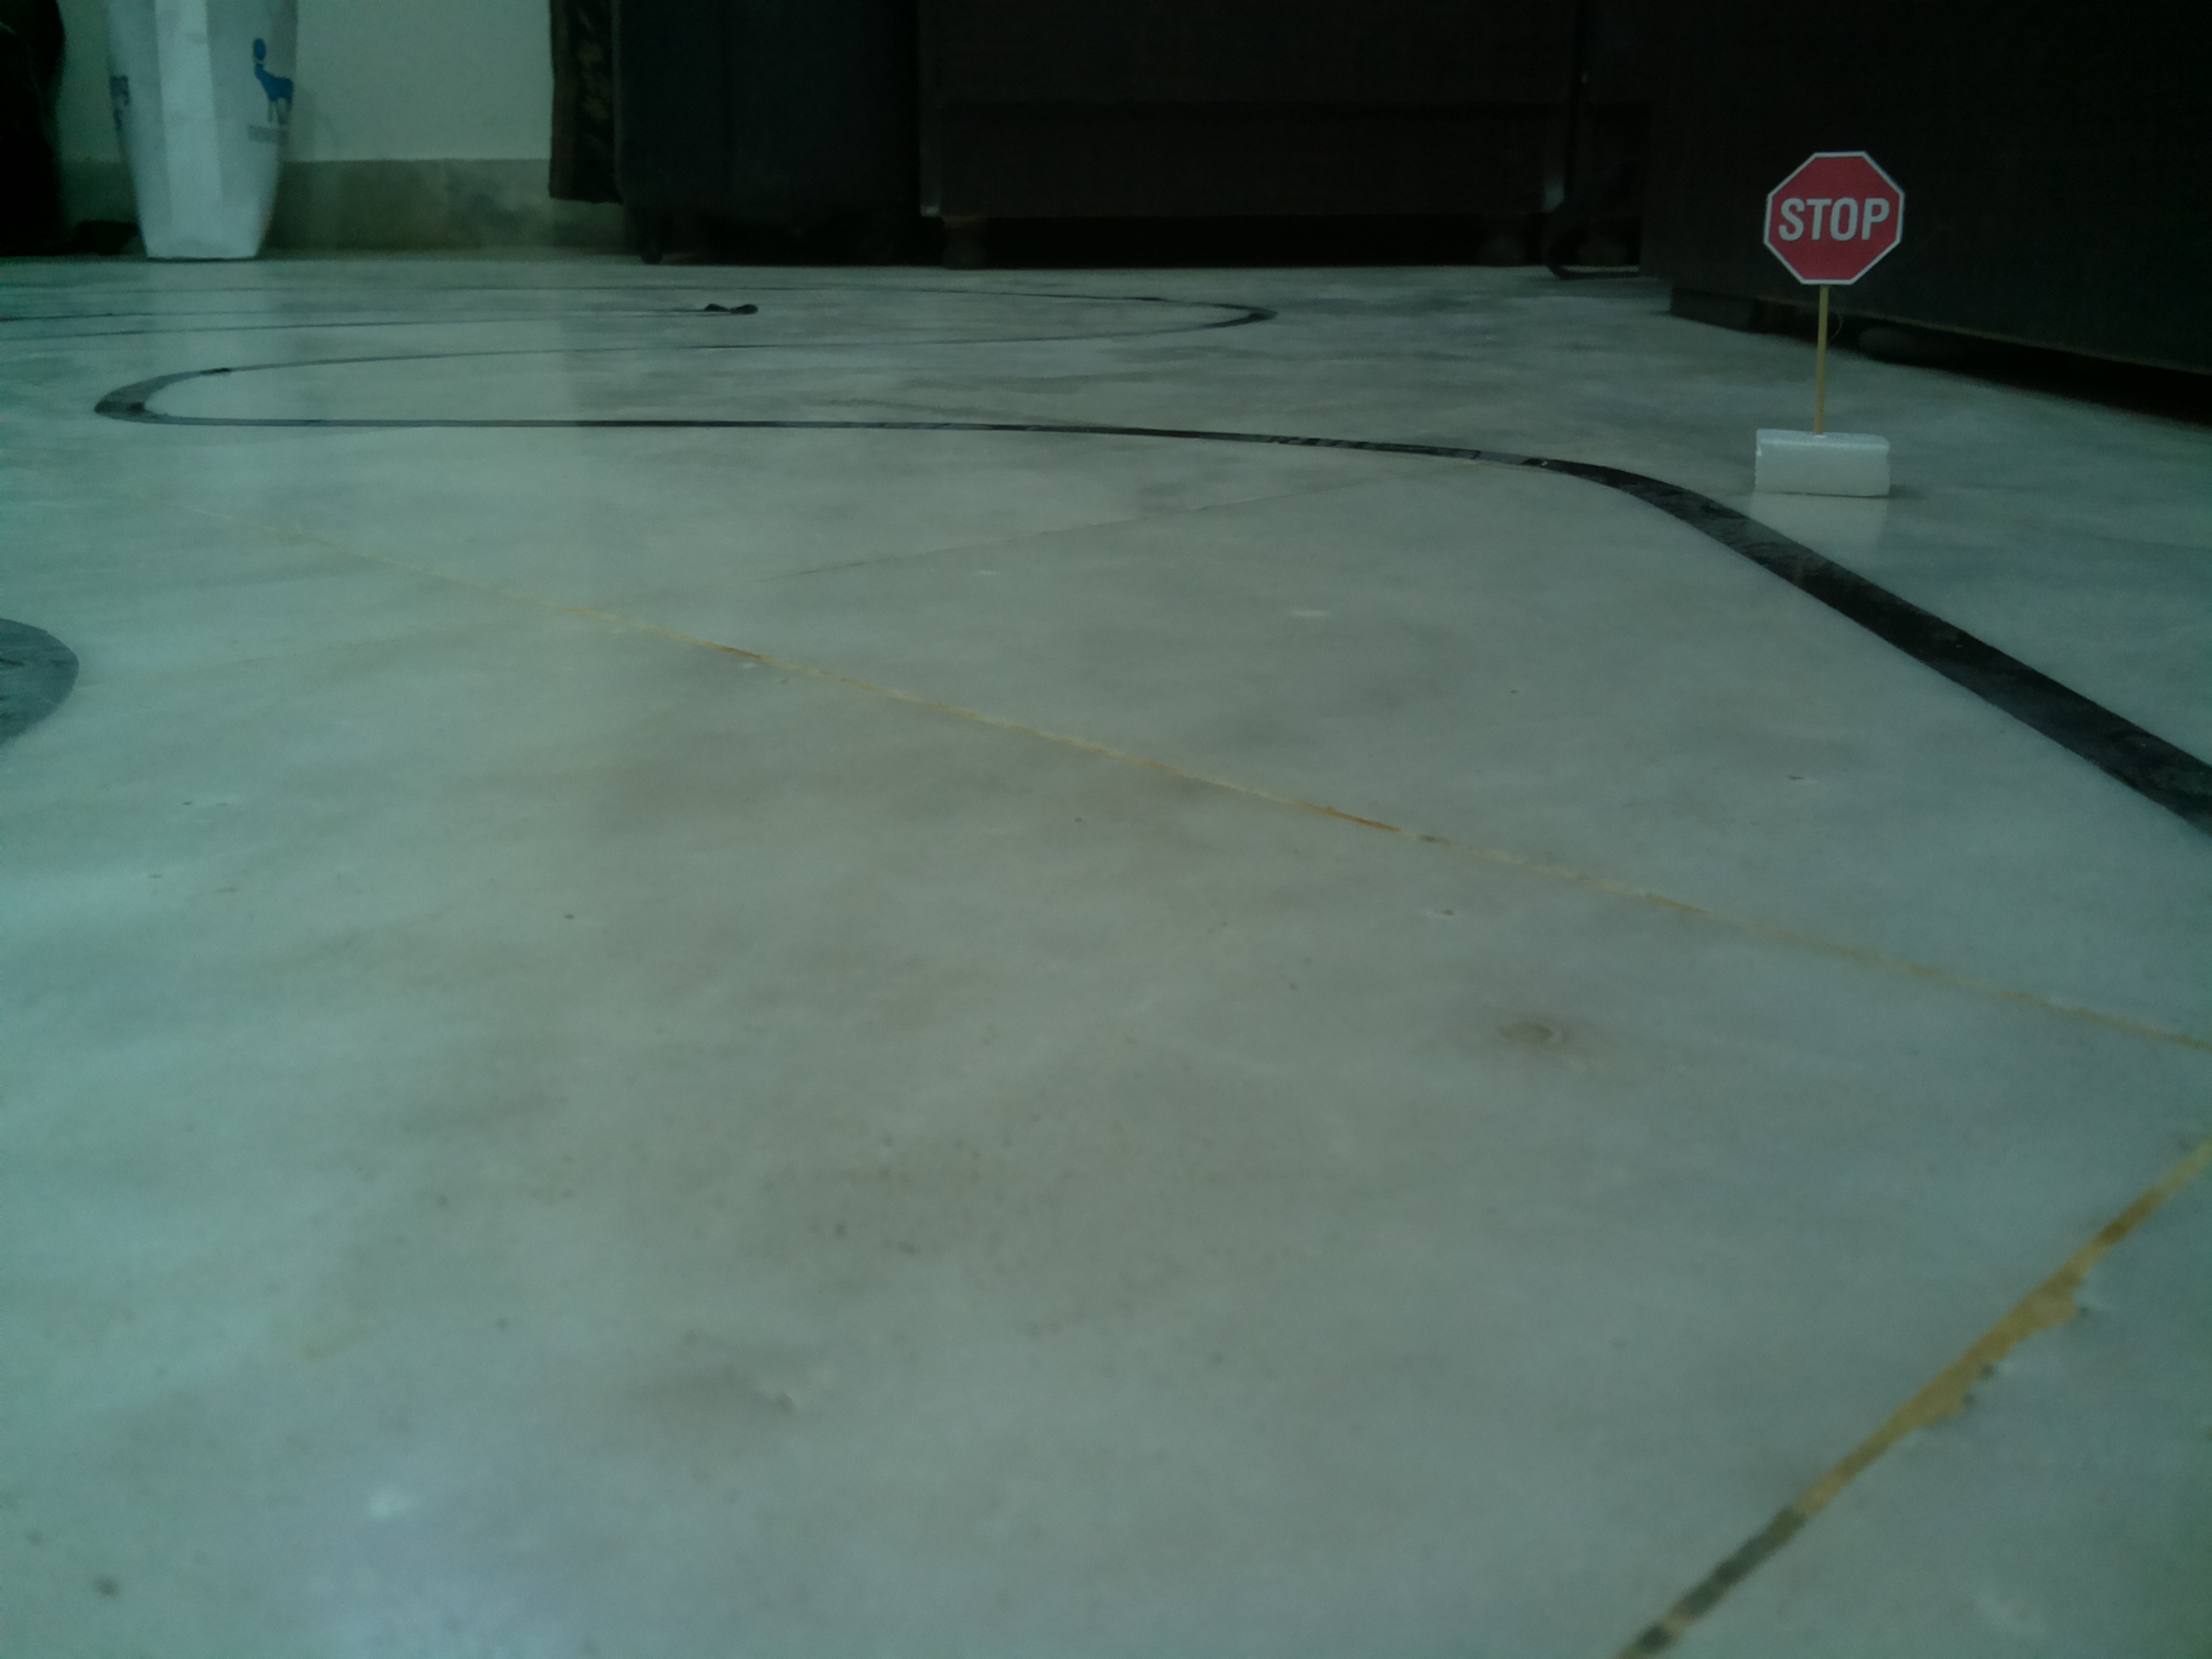Stop sign: (1759, 145, 1911, 293)
